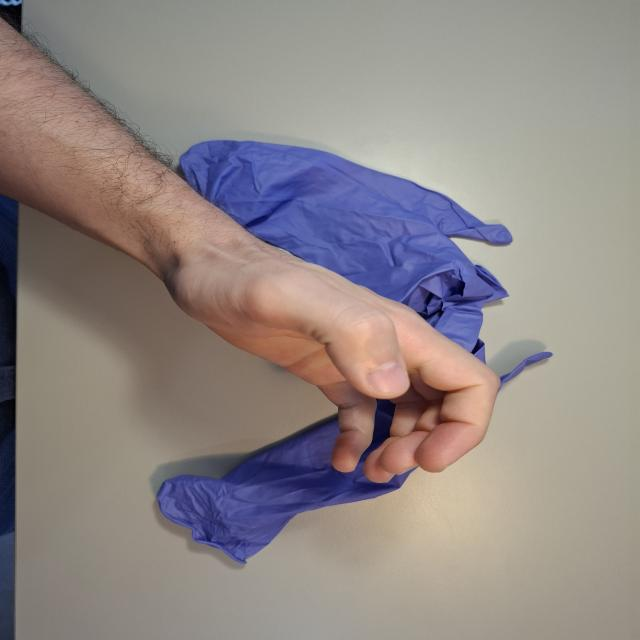glove_off: (156, 225, 504, 486)
